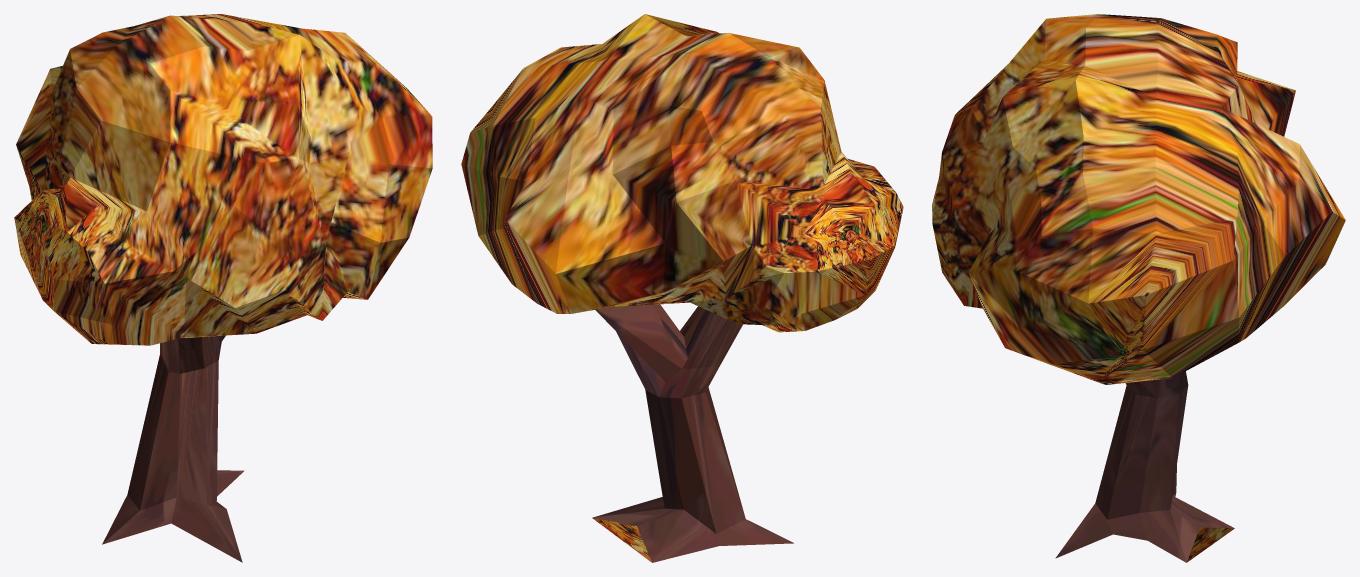
The model's file is Treed.obj.
The picture shows the model from 3 angles, left to right: view 1: azimuth 30°, elevation 25°; view 2: azimuth 150°, elevation 25°; view 3: azimuth 270°, elevation 25°; orthographic projection. The views are drawn at different scales.
Parts seen in each view (by area): view 1: Cylinder, Cylinder.001; view 2: Cylinder, Cylinder.001; view 3: Cylinder, Cylinder.001.
Boxes of the visible parts, x1,y1,x2,y2 form: Cylinder: (14, 14, 432, 345); Cylinder.001: (102, 335, 244, 562); Cylinder: (461, 14, 903, 562); Cylinder.001: (592, 304, 793, 562); Cylinder: (932, 14, 1345, 562); Cylinder.001: (1055, 371, 1234, 562).
Bounding box in the file's own units: 14.78 × 18.73 × 13.42.
